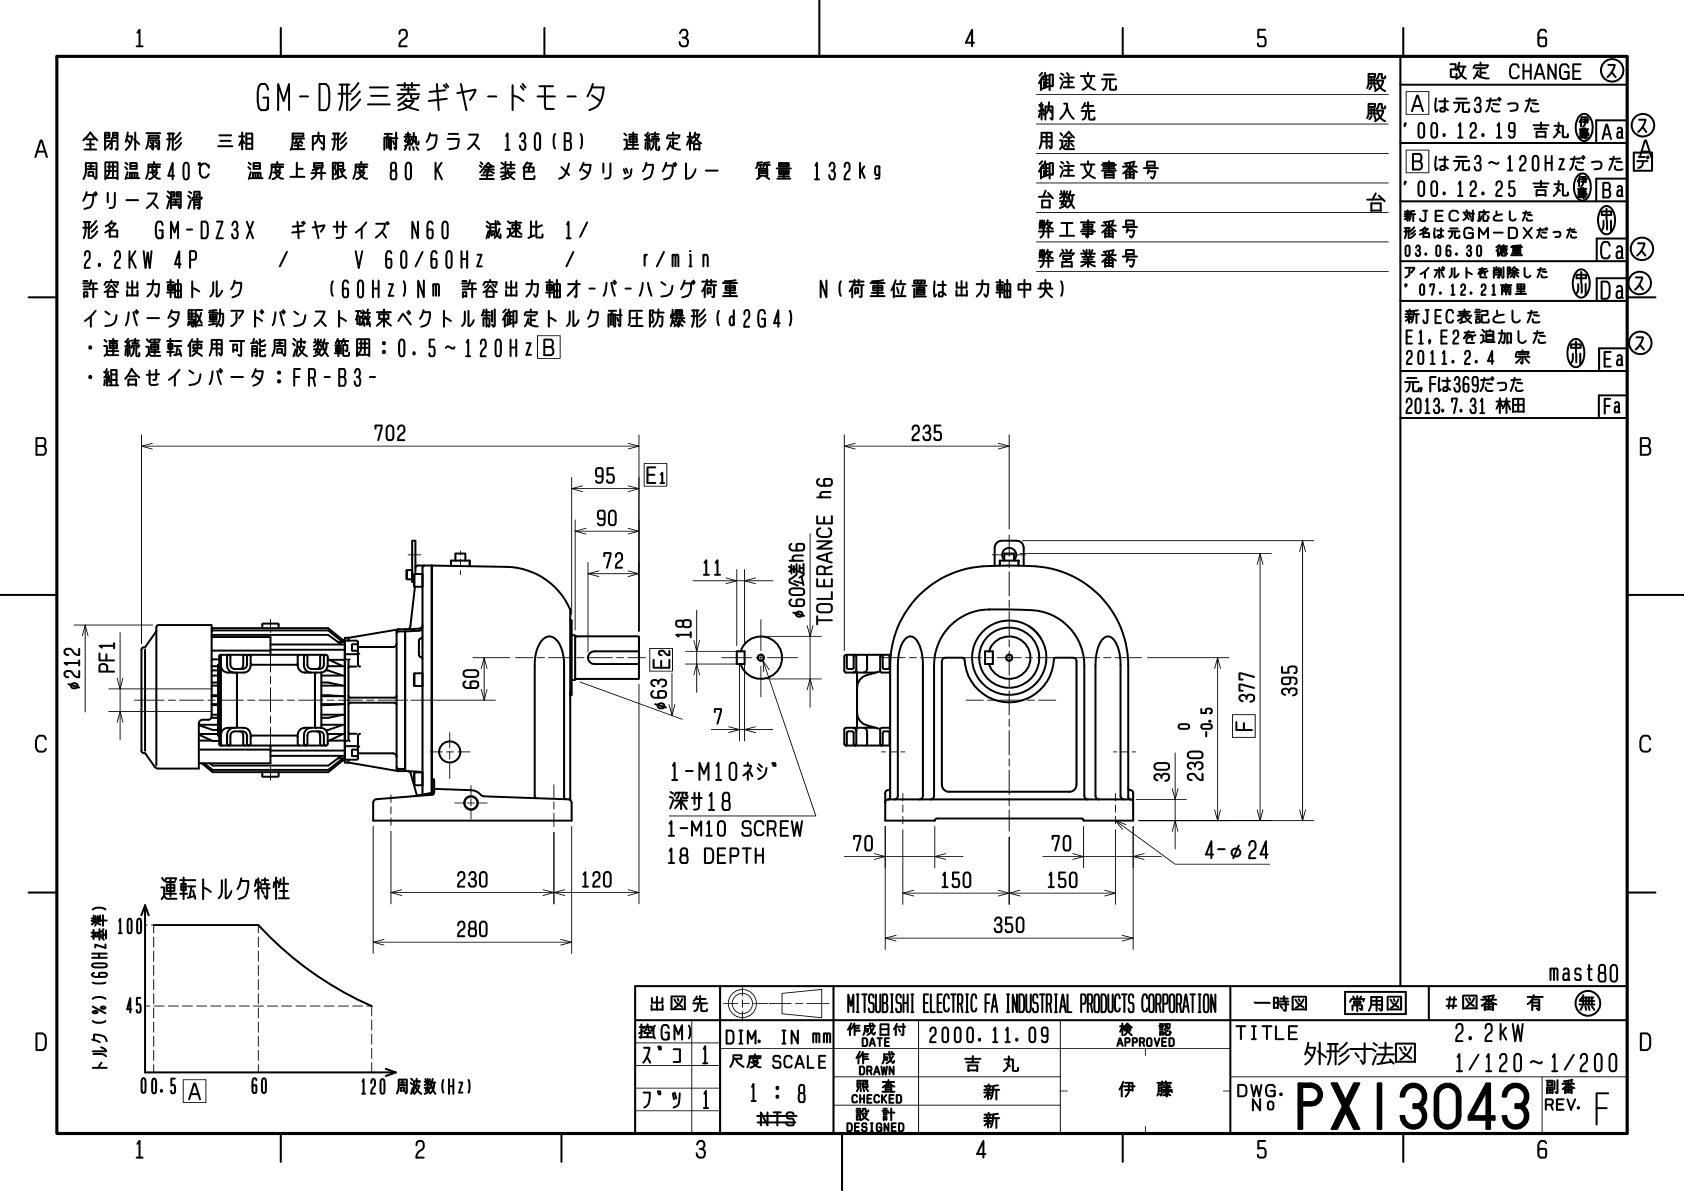GM_D_制御屋内_三相_脚: (58, 400, 1375, 967)
